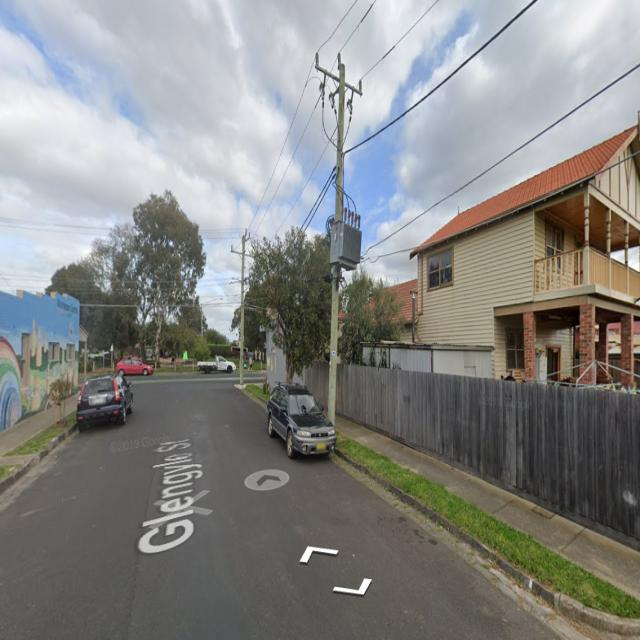HV-transmission: (315, 51, 362, 114), (231, 228, 255, 258)
crossarm: (316, 53, 364, 98), (230, 244, 255, 260)
timber-pole: (326, 62, 345, 426), (240, 236, 245, 386)
transformer: (330, 207, 362, 271)
